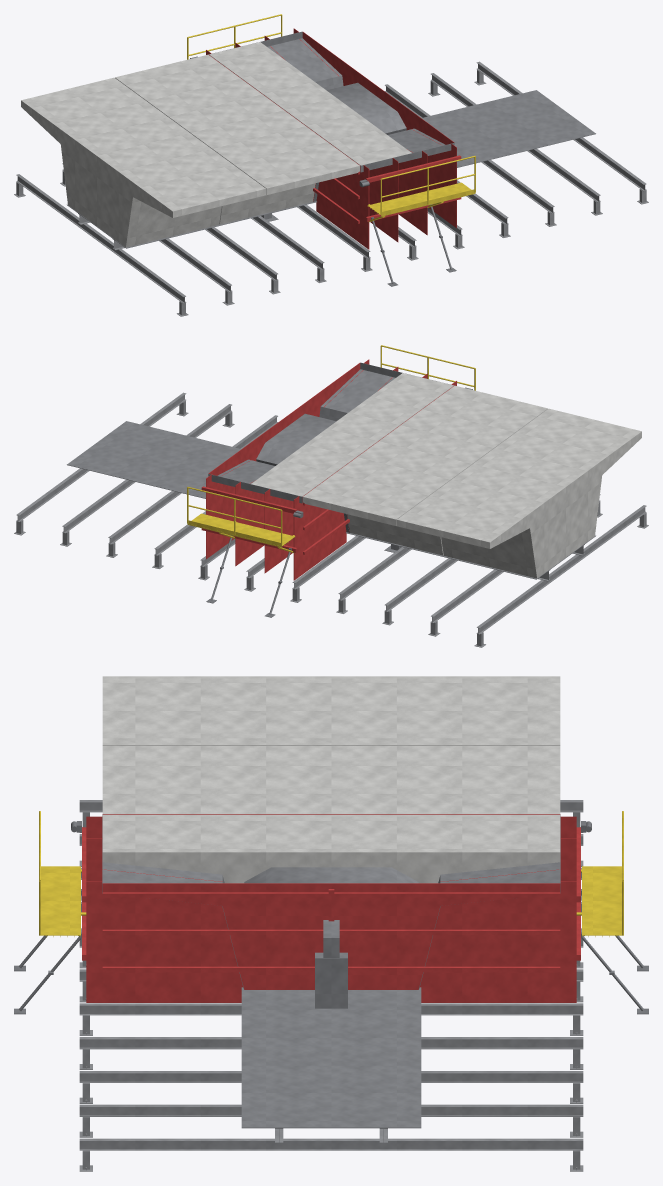
The model's file is long-line-mould.glb.
3 views of the same model, one above another, from view 1: azimuth 30°, elevation 25°; view 2: azimuth 150°, elevation 25°; view 3: azimuth 270°, elevation 25° (orthographic). The views are drawn at different scales.
Parts seen in each view (by area): view 1: ConcreteUnit(context), BaseFrame, SoffitBed, Ribs&Walers, SideShutters, Walkways, EndBulkheads, InnerCore; view 2: ConcreteUnit(context), BaseFrame, SoffitBed, Ribs&Walers, SideShutters, Walkways, EndBulkheads, InnerCore; view 3: ConcreteUnit(context), Ribs&Walers, EndBulkheads, BaseFrame, SoffitBed, Walkways, InnerCore, SideShutters, Props&Clamps.
Part boxes in pixels (left/top/right/bottom): ConcreteUnit(context): left=21, top=42, right=411, bottom=247; BaseFrame: left=14, top=61, right=648, bottom=316; SoffitBed: left=67, top=90, right=595, bottom=248; Ribs&Walers: left=206, top=28, right=461, bottom=249; SideShutters: left=208, top=31, right=454, bottom=201; Walkways: left=187, top=14, right=475, bottom=222; EndBulkheads: left=209, top=32, right=454, bottom=223; InnerCore: left=261, top=82, right=406, bottom=221; ConcreteUnit(context): left=251, top=373, right=641, bottom=578; BaseFrame: left=14, top=392, right=648, bottom=647; SoffitBed: left=67, top=421, right=595, bottom=579; Ribs&Walers: left=201, top=359, right=456, bottom=580; SideShutters: left=208, top=362, right=454, bottom=532; Walkways: left=187, top=345, right=475, bottom=553; EndBulkheads: left=208, top=363, right=453, bottom=554; InnerCore: left=256, top=413, right=401, bottom=552; ConcreteUnit(context): left=102, top=676, right=560, bottom=883; Ribs&Walers: left=82, top=816, right=580, bottom=1002; EndBulkheads: left=102, top=814, right=560, bottom=989; BaseFrame: left=79, top=800, right=583, bottom=1171; SoffitBed: left=241, top=987, right=421, bottom=1128; Walkways: left=39, top=811, right=623, bottom=936; InnerCore: left=244, top=867, right=418, bottom=1008; SideShutters: left=102, top=814, right=560, bottom=988; Props&Clamps: left=14, top=889, right=648, bottom=1014.
Size of the model in its own units: 15 by 3.12 by 11.66.
6 materials, 6 textured.
